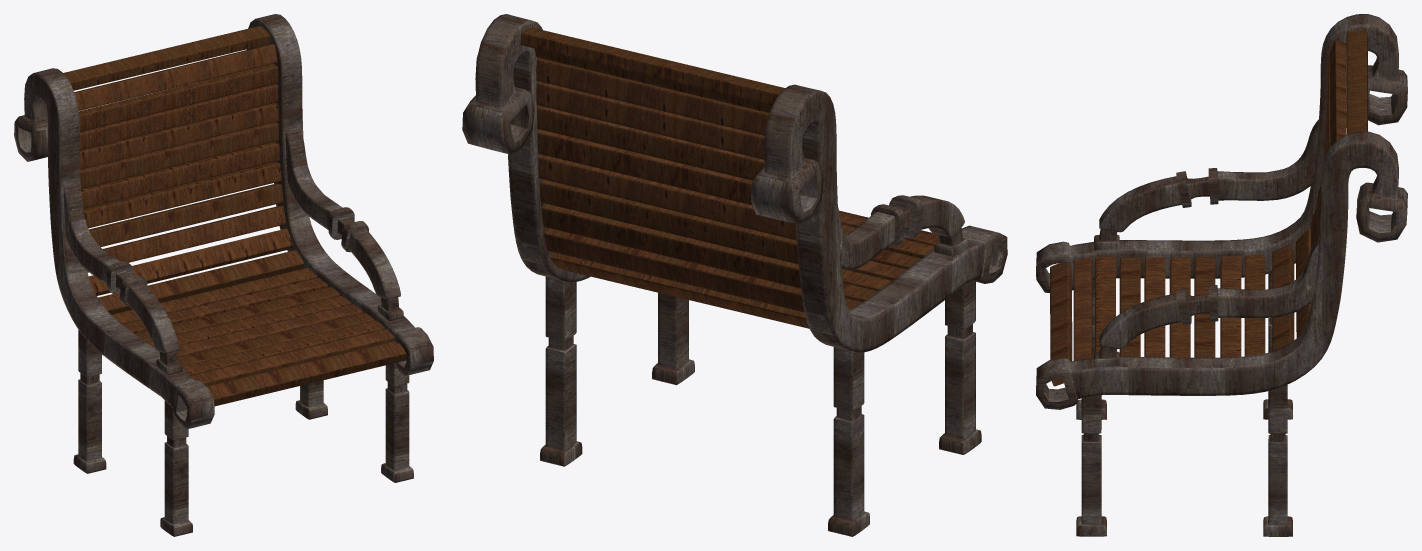
The model's file is chairV2.obj.
3 renders of one model, left to right at view 1: azimuth 30°, elevation 25°; view 2: azimuth 150°, elevation 25°; view 3: azimuth 270°, elevation 25°, orthographic. The views are drawn at different scales.
Visible parts, largest first — view 1: objChair; view 2: objChair; view 3: objChair.
Part boxes in pixels (left/top/right/bottom): objChair: left=14, top=14, right=433, bottom=536; objChair: left=462, top=14, right=1007, bottom=536; objChair: left=1036, top=14, right=1407, bottom=536.
Bounding box in the file's own units: 4.69 × 6.37 × 5.43.
2 materials, 2 textured.
